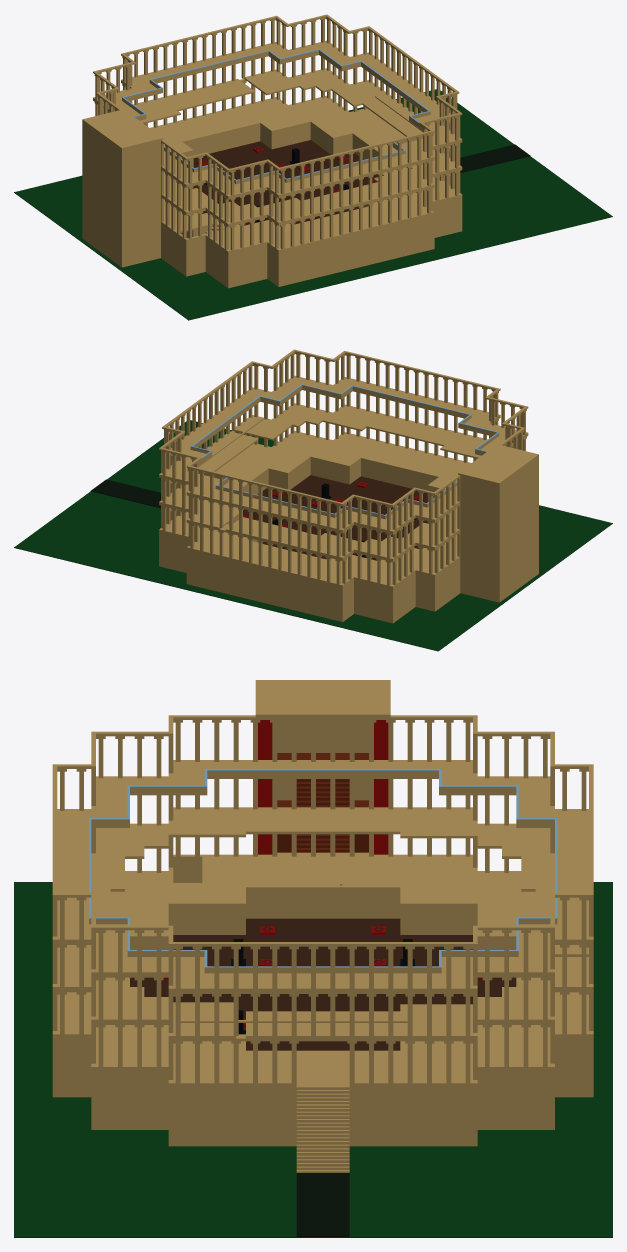
The model's file is GrandMelee.glb.
3 renders of one model, top to bottom at view 1: azimuth 30°, elevation 25°; view 2: azimuth 150°, elevation 25°; view 3: azimuth 270°, elevation 25°, orthographic. The views are drawn at different scales.
Visible parts, largest first — view 1: mesh_id1235, mesh_id13, mesh_id12, mesh_id109, mesh_id15, mesh_id5, mesh_id82, mesh_id21, mesh_id167, mesh_id108, mesh_id45, mesh_id24 (+23 smaller); view 2: mesh_id1235, mesh_id12, mesh_id13, mesh_id92, mesh_id15, mesh_id8, mesh_id82, mesh_id7, mesh_id21, mesh_id167, mesh_id88, mesh_id60 (+21 smaller); view 3: mesh_id1235, mesh_id21, mesh_id15, mesh_id17, mesh_id24, mesh_id7, mesh_id167, mesh_id47, mesh_id13, mesh_id12, mesh_id6, mesh_id9 (+46 smaller).
Boxes of the visible parts, x1,y1,x2,y2 form: mesh_id1235: (14,89,612,320); mesh_id13: (256,196,434,286); mesh_id12: (150,97,298,155); mesh_id109: (117,140,159,230); mesh_id15: (192,140,368,225); mesh_id5: (205,225,267,288); mesh_id82: (87,124,116,226); mesh_id21: (330,108,454,188); mesh_id167: (82,109,163,149); mesh_id108: (119,223,160,267); mesh_id45: (160,79,254,111); mesh_id24: (411,178,462,237); mesh_id1235: (14,420,612,651); mesh_id12: (186,531,364,621); mesh_id13: (322,432,471,490); mesh_id92: (461,475,504,565); mesh_id15: (252,475,428,560); mesh_id8: (354,560,415,623); mesh_id82: (504,460,533,561); mesh_id7: (396,540,460,611); mesh_id21: (166,443,290,523); mesh_id167: (458,444,538,484); mesh_id88: (460,558,501,602); mesh_id60: (366,414,460,446); mesh_id1235: (14,882,612,1237); mesh_id21: (168,1050,477,1146); mesh_id15: (173,935,472,1050); mesh_id17: (477,1034,554,1129); mesh_id24: (91,1034,168,1129); mesh_id7: (342,854,477,918); mesh_id167: (255,680,390,717); mesh_id47: (246,807,400,834); mesh_id13: (52,903,129,1097); mesh_id12: (516,903,593,1097); mesh_id6: (168,887,245,934); mesh_id9: (400,887,477,934).
Bounding box in the file's own units: 0.512 × 0.1383 × 0.3649.
1232 materials, 1232 textured.
